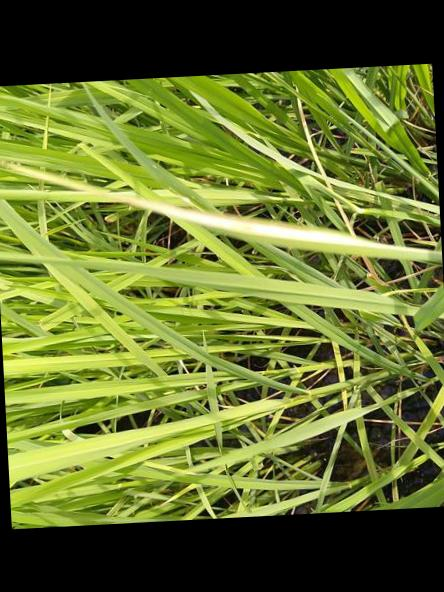Leaf Blight: (0, 155, 435, 254)
